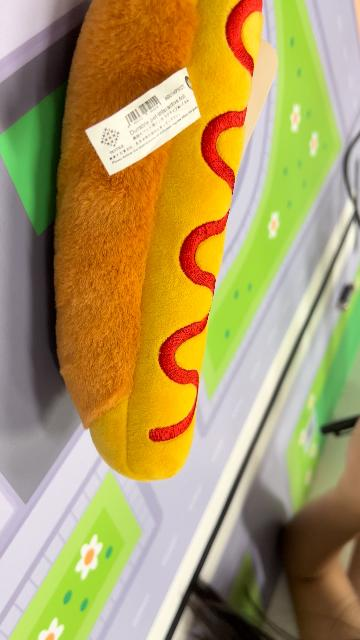hotdog: (52, 2, 266, 484)
